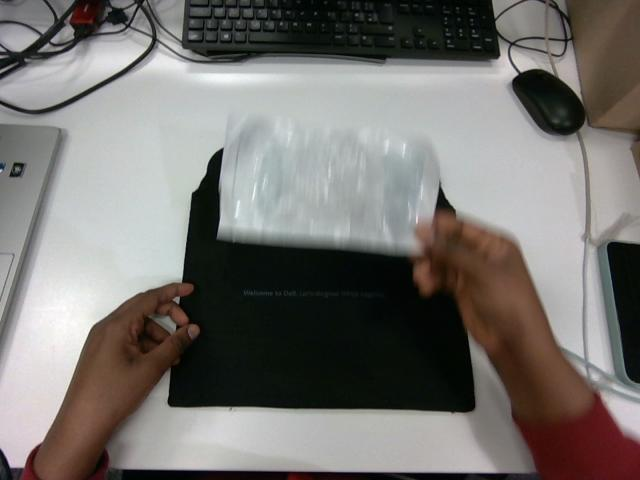gallipot: (218, 117, 439, 254)
